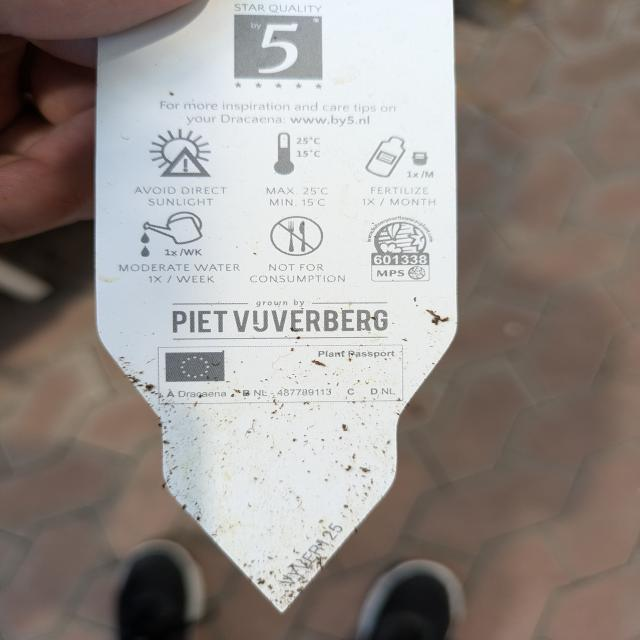dungen: (359, 124, 439, 192)
keine Sonne: (151, 120, 223, 183)
mittel giesen: (138, 207, 228, 264)
